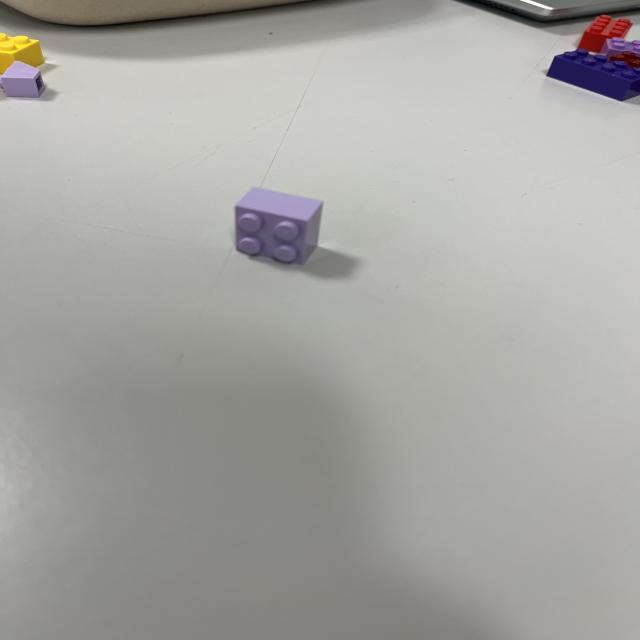C2x1x1: (233, 186, 324, 266)
